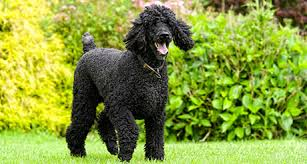Bulldog: (52, 1, 189, 164)
